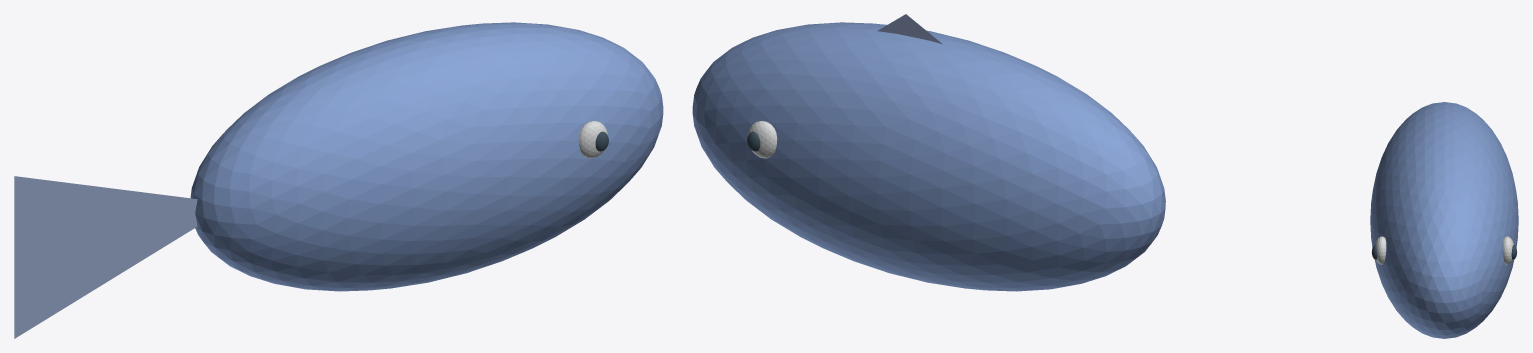
3 renders of one model, left to right at view 1: azimuth 30°, elevation 25°; view 2: azimuth 150°, elevation 25°; view 3: azimuth 270°, elevation 25°, orthographic. The views are drawn at different scales.
Parts seen in each view (by area): view 1: fish_00, fish_01, fish_05; view 2: fish_00, fish_02, fish_03; view 3: fish_00, fish_03, fish_05.
Part boxes in pixels (x1,y1,x2,y2): fish_00: (190, 22, 663, 291); fish_01: (14, 176, 197, 338); fish_05: (578, 121, 607, 158); fish_00: (692, 22, 1165, 291); fish_02: (877, 14, 942, 44); fish_03: (748, 121, 777, 158); fish_00: (1370, 102, 1518, 338); fish_03: (1502, 236, 1513, 264); fish_05: (1375, 236, 1386, 264).
Bounding box in the file's own units: 2.78 × 1.05 × 0.76.
